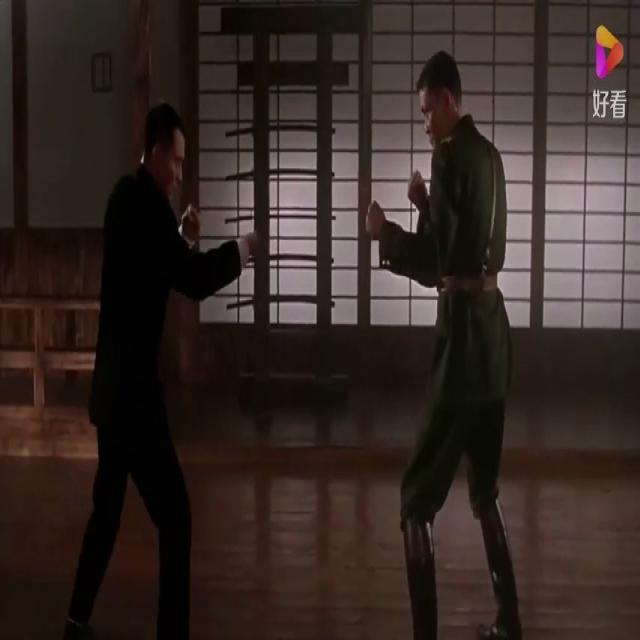fight: (64, 40, 523, 639)
